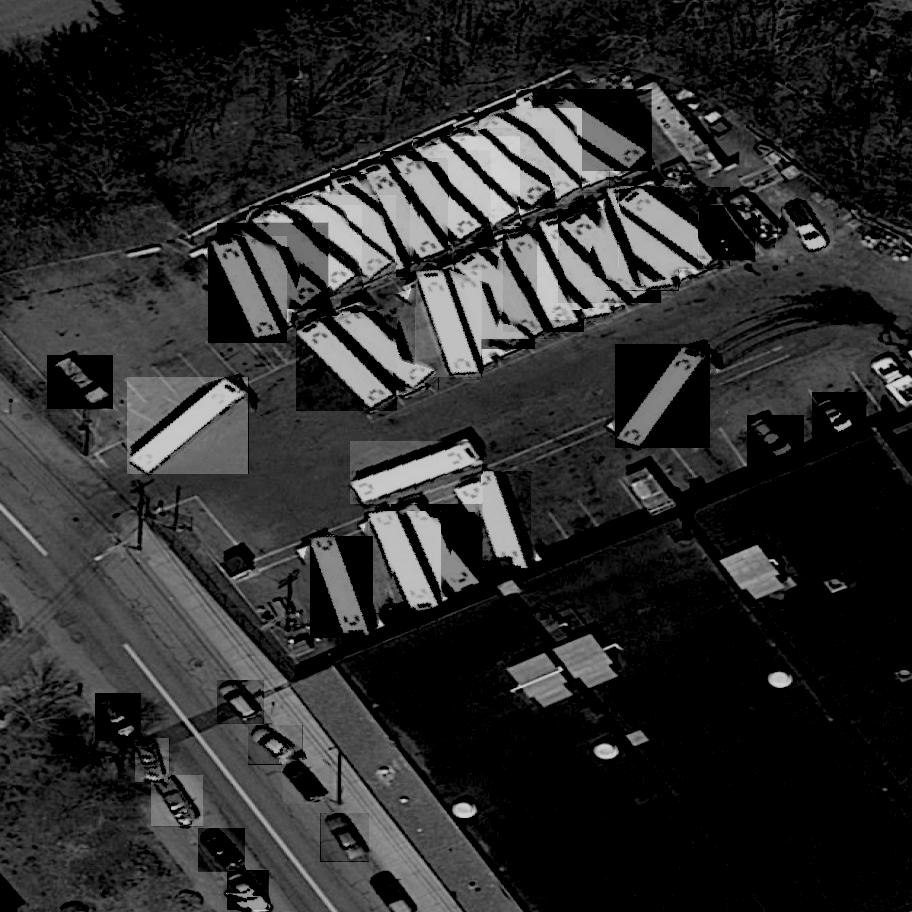large-vehicle: (127, 373, 249, 479), (616, 339, 713, 456), (379, 148, 491, 249), (479, 102, 583, 208), (413, 131, 520, 234), (249, 202, 362, 299), (217, 217, 330, 314), (533, 84, 653, 175), (455, 242, 561, 345), (559, 202, 662, 308), (516, 84, 610, 198), (283, 191, 397, 285), (326, 300, 439, 394), (297, 310, 397, 415), (617, 184, 730, 274), (358, 156, 448, 268), (442, 125, 555, 214), (422, 266, 535, 353), (392, 496, 484, 602), (209, 229, 287, 350), (331, 165, 411, 282), (503, 223, 584, 338), (537, 209, 615, 326), (606, 179, 679, 298), (351, 441, 484, 506), (368, 505, 441, 621), (416, 265, 482, 384), (466, 465, 532, 581), (310, 529, 374, 646)
small-vehicle: (46, 350, 113, 416), (699, 201, 756, 267), (747, 412, 804, 472), (151, 771, 203, 834), (783, 196, 833, 260), (812, 386, 867, 444), (322, 809, 370, 868), (249, 721, 303, 769), (95, 690, 141, 746), (217, 677, 265, 729), (282, 758, 330, 809), (199, 825, 246, 875), (227, 867, 269, 912), (136, 734, 170, 787)
